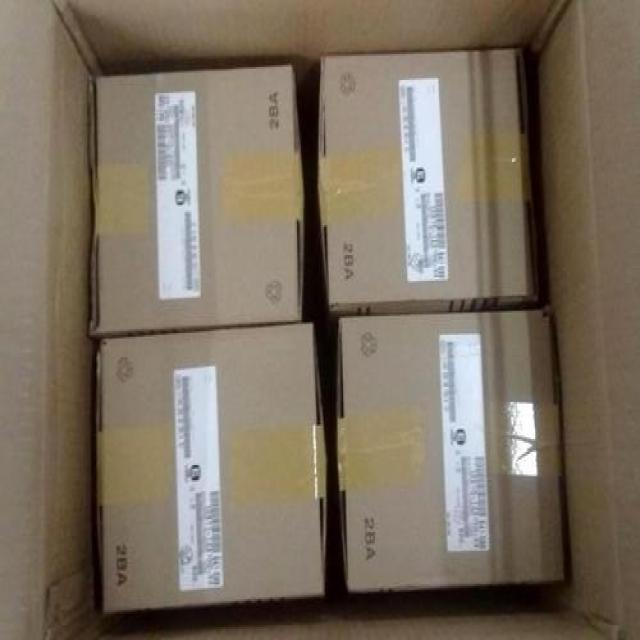box: (97, 321, 326, 612), (337, 307, 566, 590), (318, 50, 542, 316), (90, 68, 304, 337)
